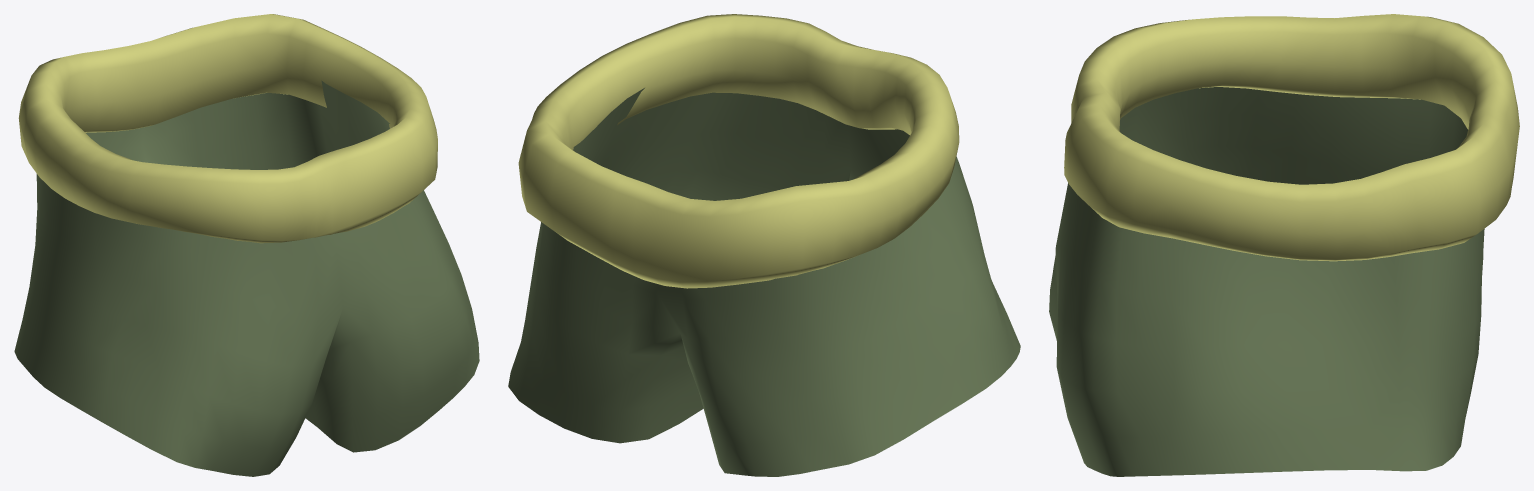
File: Pantalon_Hips.fbx
3 views of the same model, side by side, from view 1: azimuth 30°, elevation 25°; view 2: azimuth 150°, elevation 25°; view 3: azimuth 270°, elevation 25° (orthographic). The views are drawn at different scales.
Visible parts, largest first — view 1: polySurface86; view 2: polySurface86; view 3: polySurface86.
Part boxes in pixels (left/top/right/bottom): polySurface86: left=14, top=14, right=479, bottom=476; polySurface86: left=508, top=14, right=1020, bottom=476; polySurface86: left=1049, top=14, right=1519, bottom=476.
Bounding box in the file's own units: 40.96 × 29.7 × 36.58.
